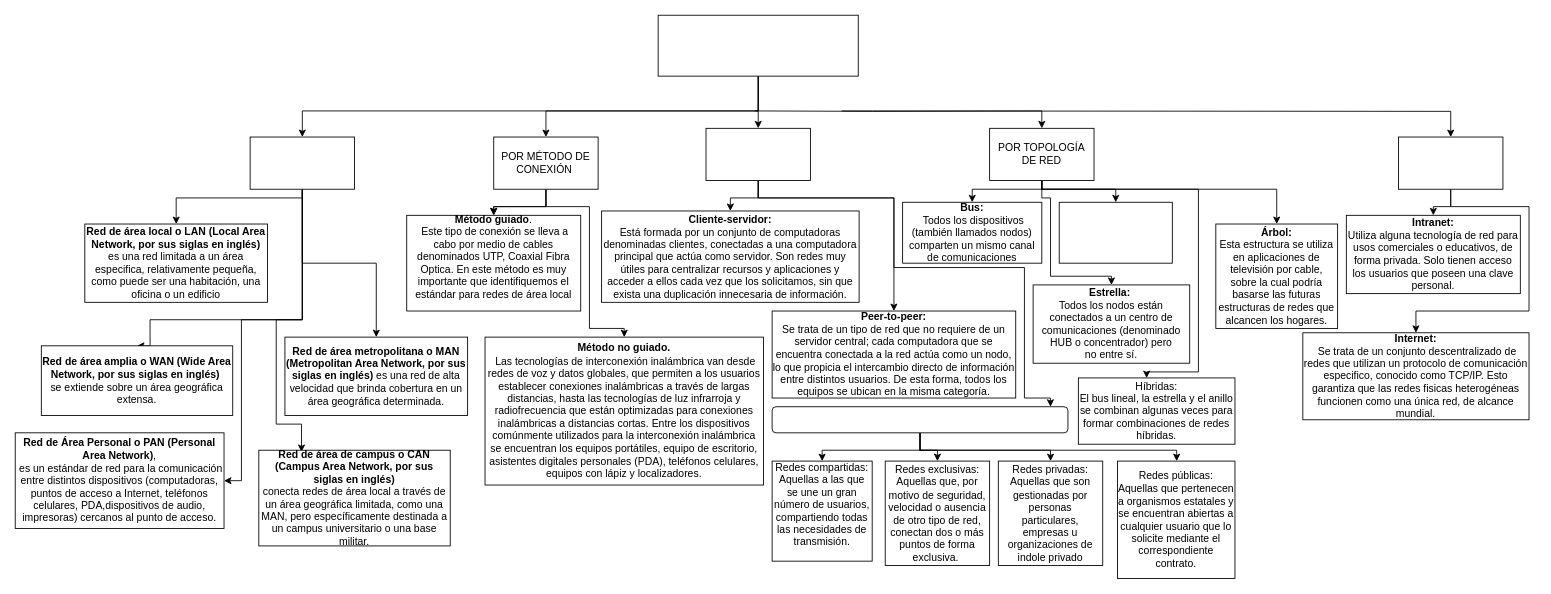
Some shapes in this 1551 by 594 pixel diagram are drawn without their labels. The centre of each missing label's shape, as x and y in pixels:
"Anillo: En este caso los nodos están unidos unos a otros formando un anillo." belongs at (1115,232).
"CLASIFICACION DE REDES" belongs at (757,45).
"Estos dos tipos de relaciones las podemos encontrar en las siguientes redes" belongs at (919,419).
"POR RELACIÓN FUNCIONAL" belongs at (757,154).
"POR SU ALCANCE" belongs at (302,162).
"POR ÁMBITO DE APLICACIÓN" belongs at (1450,162).
